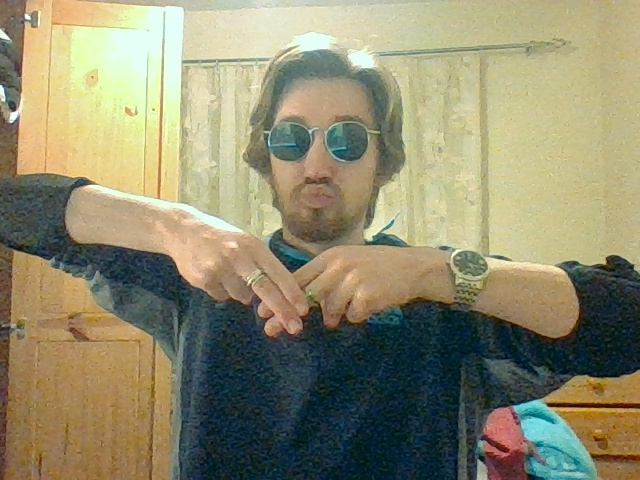father: (233, 232, 352, 337)
